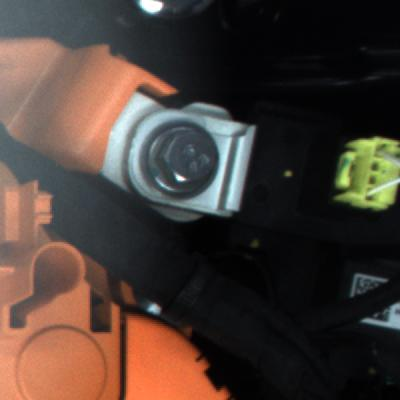nut_b: (142, 116, 220, 197)
